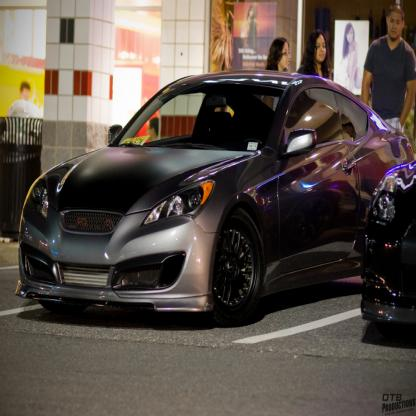Car: (16, 70, 416, 328), (361, 161, 416, 328)
